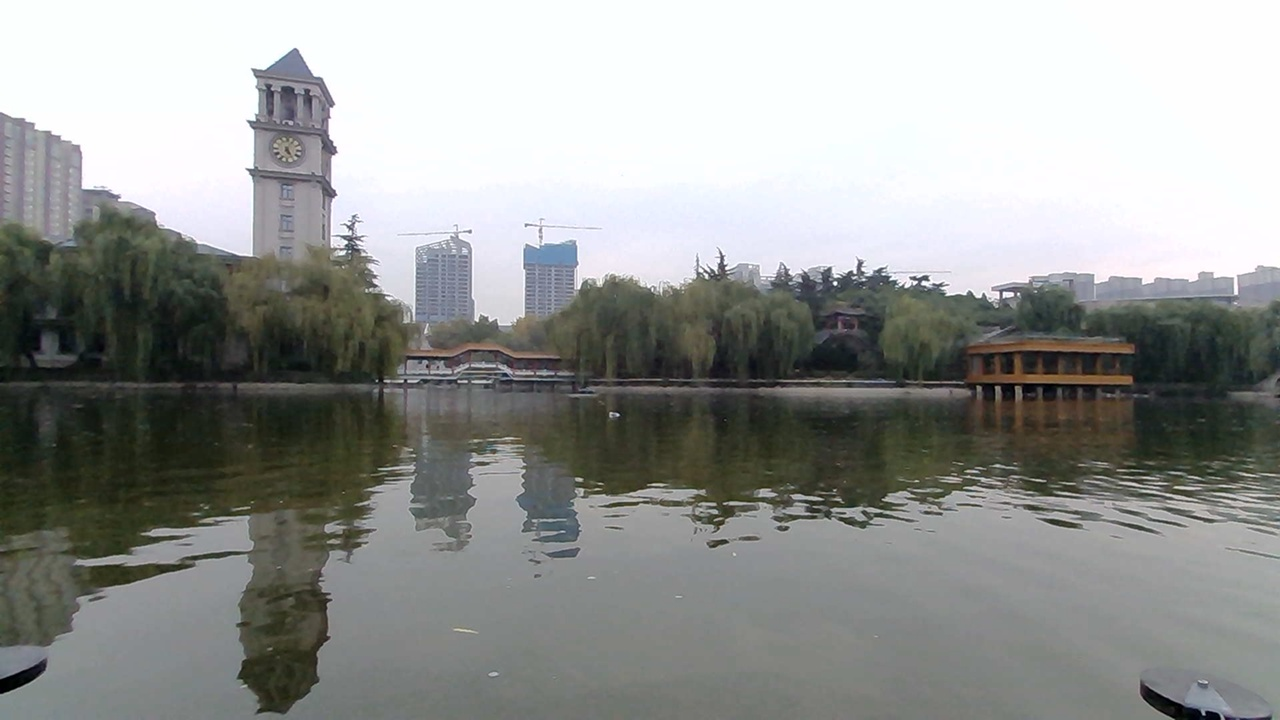bottle: (587, 402, 633, 426)
